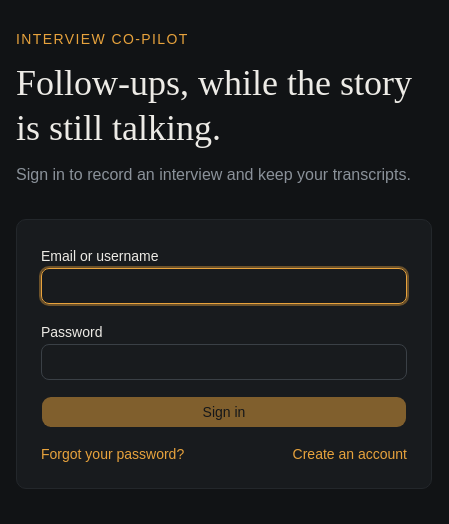
Test case: App › shows a clear message for wrong credentials and clears the password
Type "journalist" into the field labelled "Email or username" at (224,286), box [41,268,407,304]
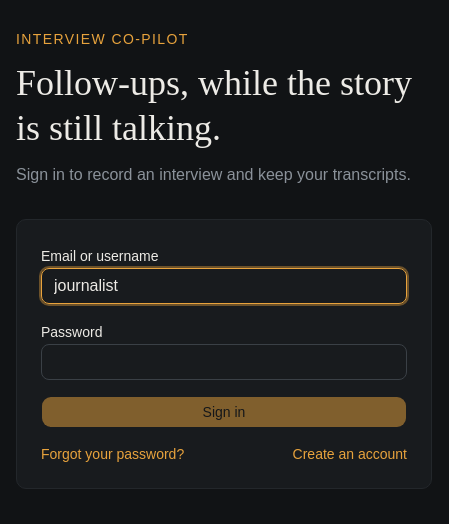
Type "nope" into the password field labelled "Password" at (224,362), box [41,344,407,380]
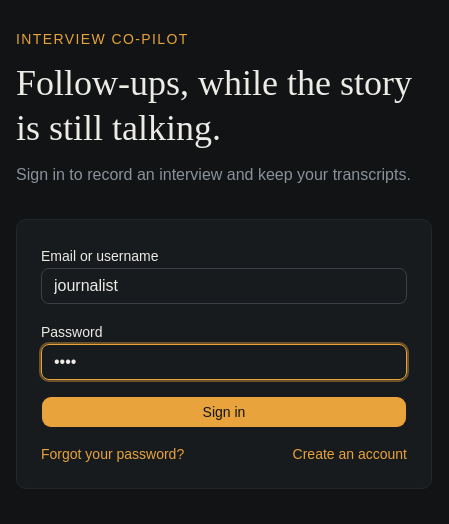
Click the button "Sign in" at (224,412), box [41,396,407,428]
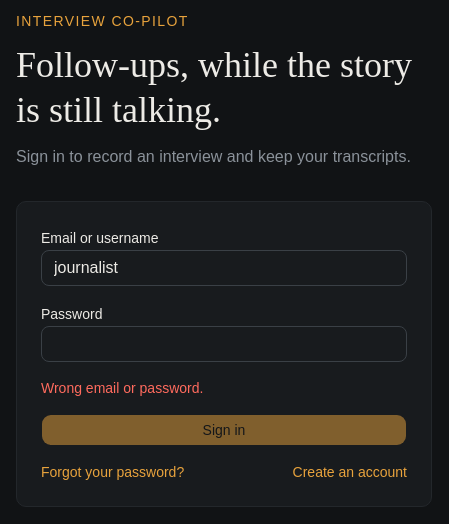
Check: the message reads "Wrong email or password.", box [41,380,203,396]
Check: the password field labelled "Password" is empty, box [41,326,407,362]
